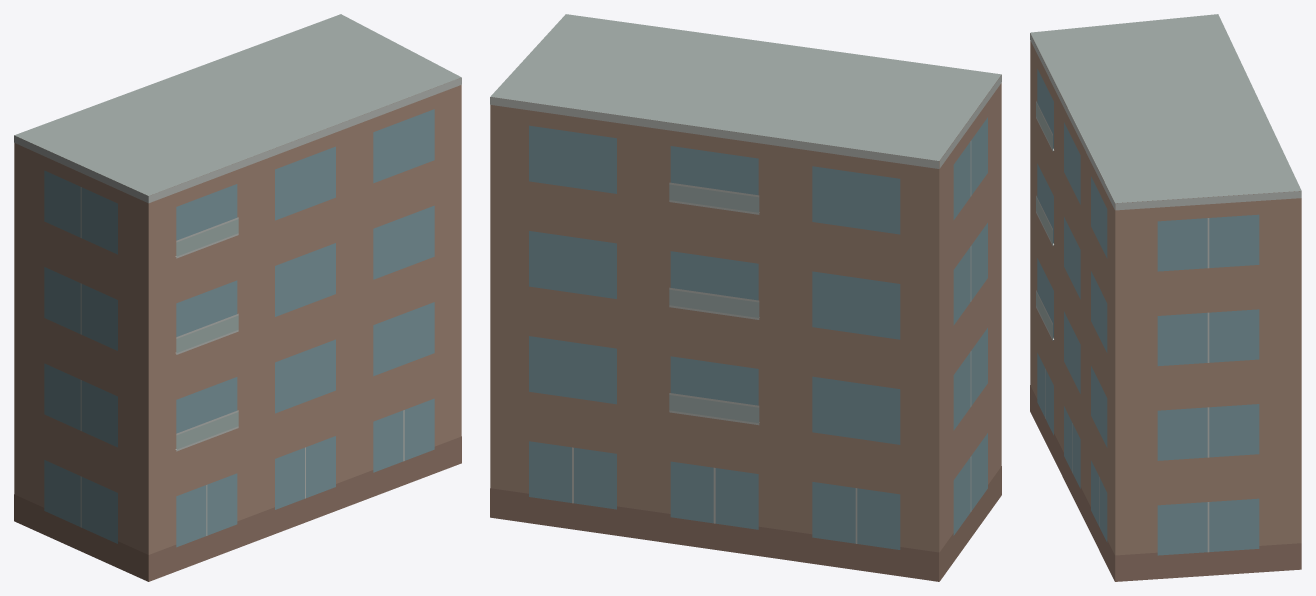
The model's file is survey-upis-33045490.glb.
3 views of the same model, side by side, from view 1: azimuth 30°, elevation 25°; view 2: azimuth 150°, elevation 25°; view 3: azimuth 270°, elevation 25° (orthographic). The views are drawn at different scales.
Parts seen in each view (by area): view 1: survey-upis-33045490.tmp; view 2: survey-upis-33045490.tmp; view 3: survey-upis-33045490.tmp.
Boxes of the visible parts, x1,y1,x2,y2 form: survey-upis-33045490.tmp: [14, 14, 461, 581]; survey-upis-33045490.tmp: [490, 14, 1001, 581]; survey-upis-33045490.tmp: [1030, 14, 1301, 581].
Size of the model in its own units: 13.73 by 12.8 by 8.33.
